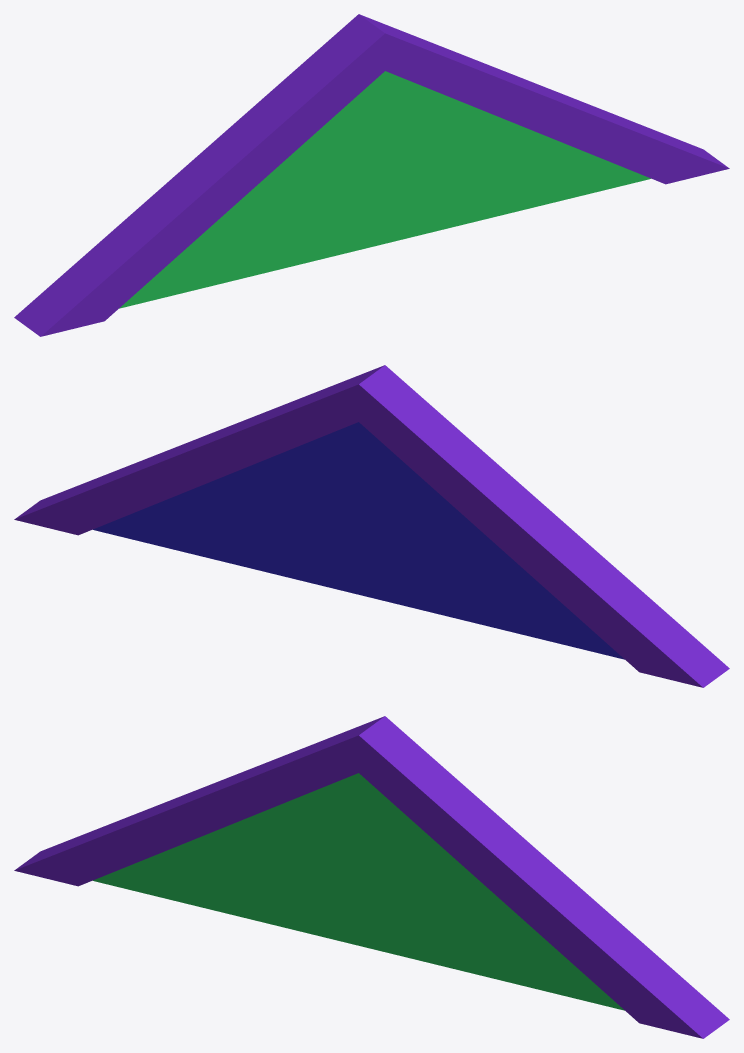
The model's file is SM_small_roof.fbx.
3 views of the same model, one above another, from view 1: azimuth 30°, elevation 25°; view 2: azimuth 150°, elevation 25°; view 3: azimuth 330°, elevation 25° (orthographic).
Parts seen in each view (by area): view 1: small_roof; view 2: small_roof; view 3: small_roof.
Part boxes in pixels (<box>): small_roof: <box>14,14,729,336</box>; small_roof: <box>14,365,729,687</box>; small_roof: <box>14,716,729,1038</box>.
Bounding box in the file's own units: 615 × 187 × 40.84.
